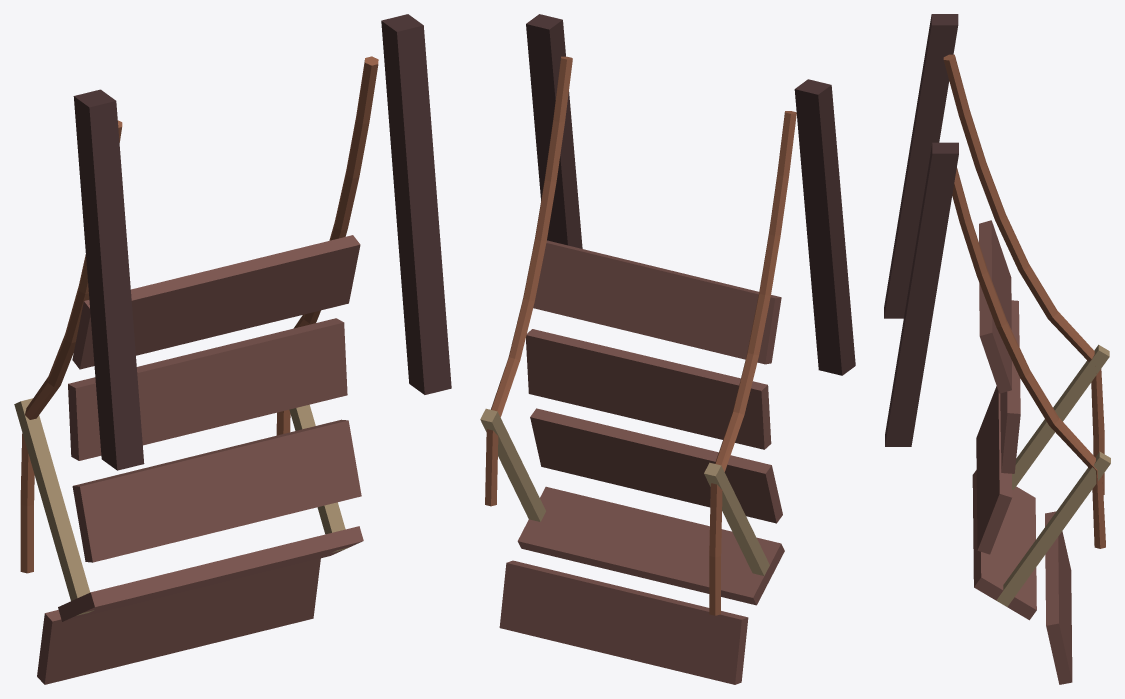
Rendered from LightRoseWoodDecorationSmallBrokenBridgeStartEnd1.fbx.
3 renders of one model, left to right at view 1: azimuth 30°, elevation 25°; view 2: azimuth 150°, elevation 25°; view 3: azimuth 270°, elevation 25°, orthographic. The views are drawn at different scales.
Parts seen in each view (by area): view 1: LightRoseWoodDecorationSmallBrokenBridgeStartEnd1; view 2: LightRoseWoodDecorationSmallBrokenBridgeStartEnd1; view 3: LightRoseWoodDecorationSmallBrokenBridgeStartEnd1.
Boxes of the visible parts, bbox=[...] form: LightRoseWoodDecorationSmallBrokenBridgeStartEnd1: bbox=[14, 14, 451, 684]; LightRoseWoodDecorationSmallBrokenBridgeStartEnd1: bbox=[480, 14, 855, 684]; LightRoseWoodDecorationSmallBrokenBridgeStartEnd1: bbox=[884, 14, 1110, 684].
Size of the model in its own units: 249 by 453 by 170.
